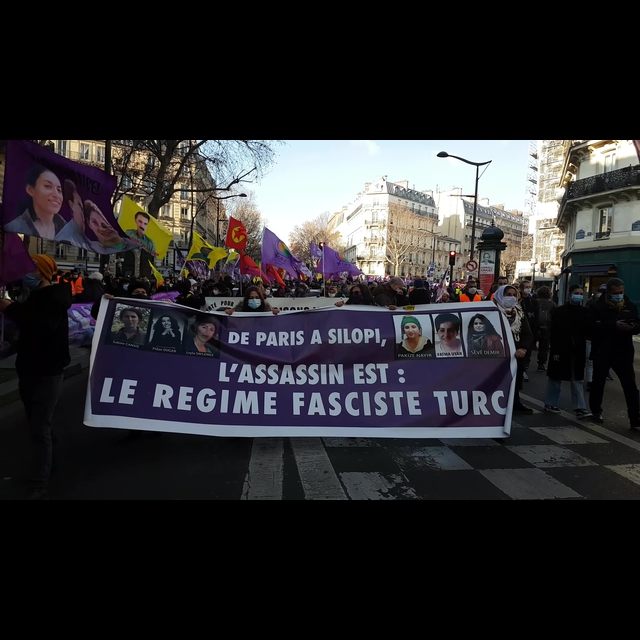APO: (132, 210, 151, 233)
PKK: (229, 224, 245, 242)
